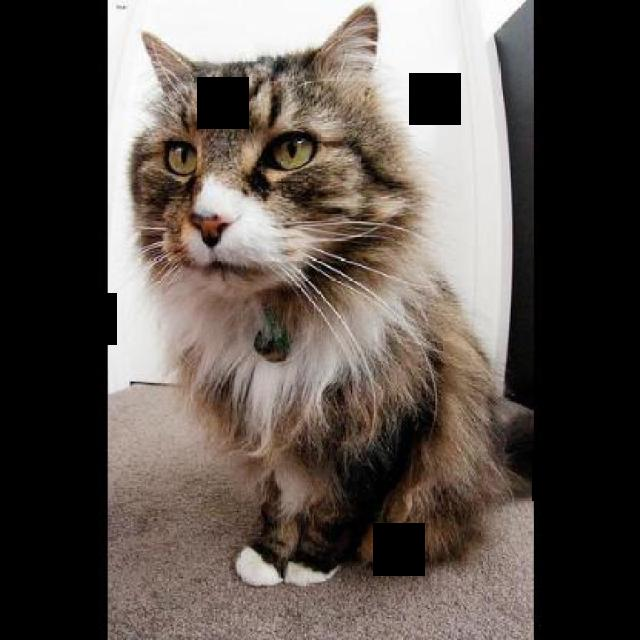unauthorized: (128, 1, 534, 588)
